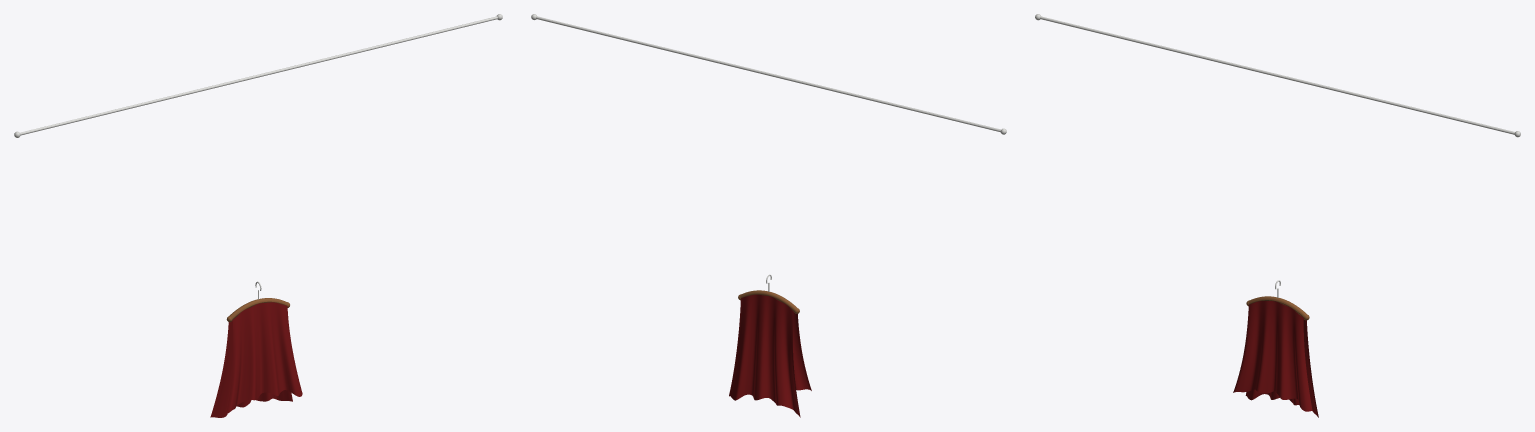
Rendered from rack.glb.
The picture shows the model from 3 angles, left to right: view 1: azimuth 30°, elevation 25°; view 2: azimuth 150°, elevation 25°; view 3: azimuth 330°, elevation 25°; orthographic projection. The views are drawn at different scales.
Parts seen in each view (by area): view 1: Saree_Hung, Rail_Rod; view 2: Saree_Hung, Rail_Rod; view 3: Saree_Hung, Rail_Rod.
Boxes of the visible parts, <box> form: Saree_Hung: <box>210,302,302,417</box>; Rail_Rod: <box>20,16,497,135</box>; Saree_Hung: <box>729,294,811,417</box>; Rail_Rod: <box>536,16,1000,132</box>; Saree_Hung: <box>1233,301,1318,417</box>; Rail_Rod: <box>1040,16,1514,134</box>.
Bounding box in the file's own units: 4.25 × 2.83 × 0.2354.
